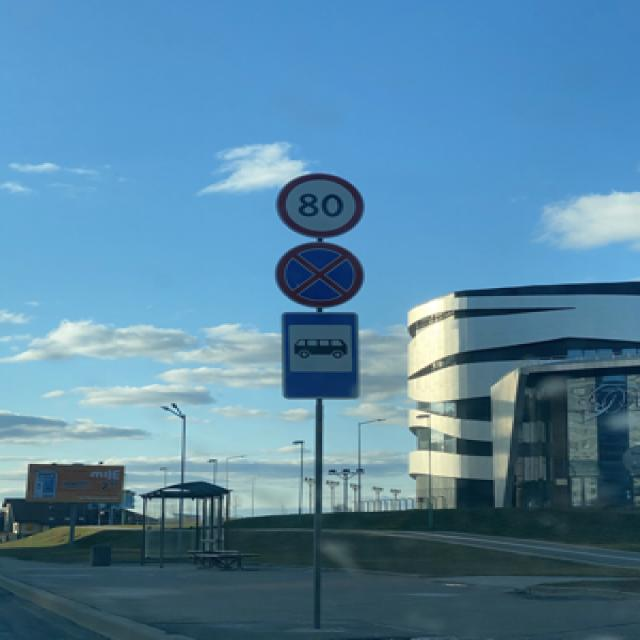speedlimit: (273, 171, 361, 235)
